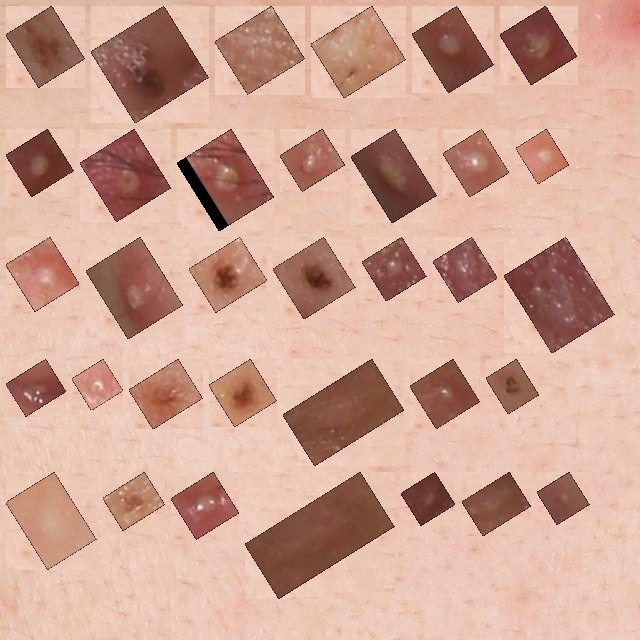hypertrophic_scar: (256, 483, 383, 587), (294, 370, 393, 455), (17, 483, 85, 558), (322, 17, 394, 87), (226, 17, 294, 83), (473, 483, 520, 525)
nevus: (102, 17, 197, 112), (284, 248, 344, 308), (200, 248, 256, 301), (140, 370, 192, 418), (220, 370, 265, 415), (114, 483, 154, 519), (497, 370, 528, 403)
pustule: (515, 248, 603, 342), (188, 140, 263, 220), (97, 248, 172, 328), (91, 140, 160, 210), (362, 140, 425, 212), (423, 17, 482, 82), (511, 17, 566, 74), (17, 248, 68, 300), (421, 370, 469, 417), (182, 483, 228, 528), (17, 140, 62, 185), (454, 140, 498, 186), (444, 248, 486, 291), (373, 248, 415, 290), (291, 140, 334, 180), (17, 370, 55, 405), (527, 140, 558, 173), (412, 483, 444, 514), (548, 483, 578, 513), (83, 370, 112, 399)
